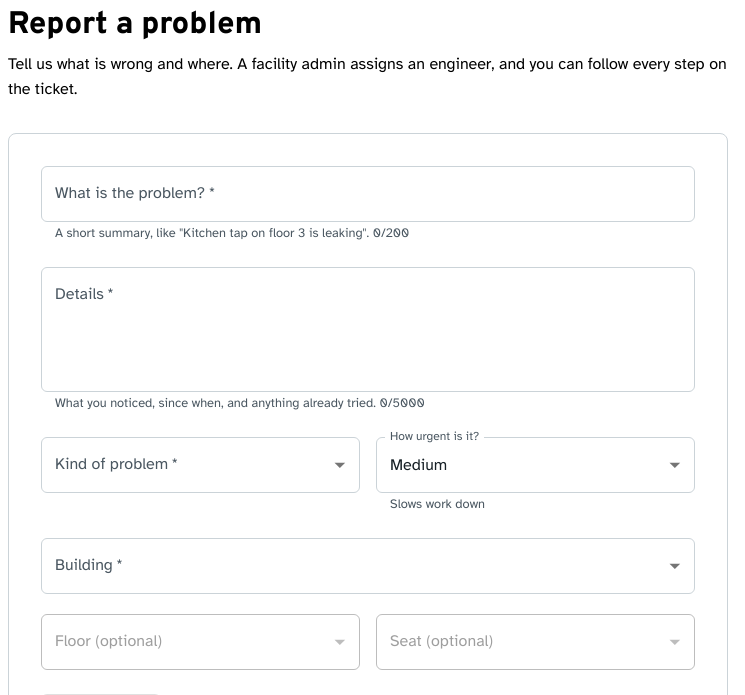
Test: ReportPage › shows an unexpected failure with its reference
Type "Tap leaking" into the field labelled "What is the problem? *" at (368, 194), box [41,166,695,222]
Type "Since Monday" into the text box labelled "Details *" at (368, 330), box [55,284,681,376]
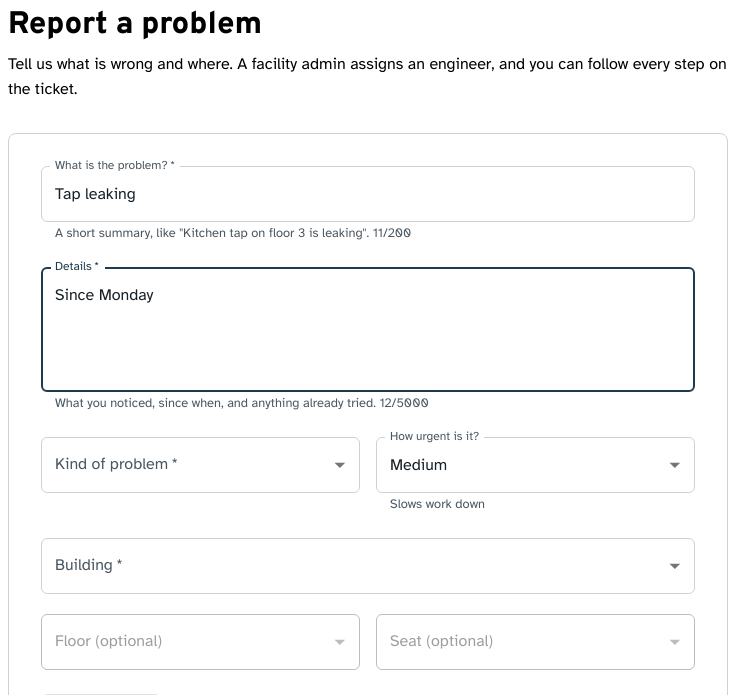
Click the dropdown named "Kind of problem" next to "Kind of problem" at (200, 465), box [41,437,360,493]
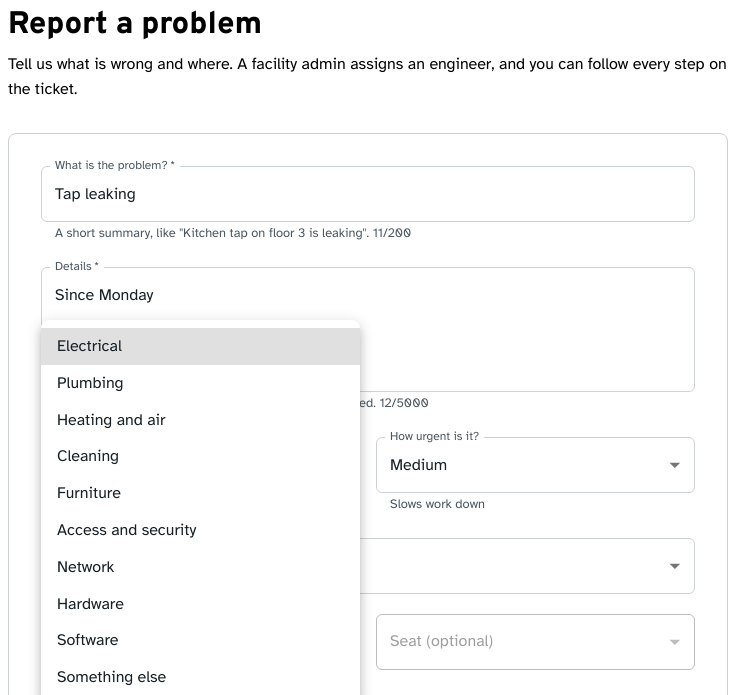
Click the option "Plumbing" at (90, 383), box [57,373,124,393]
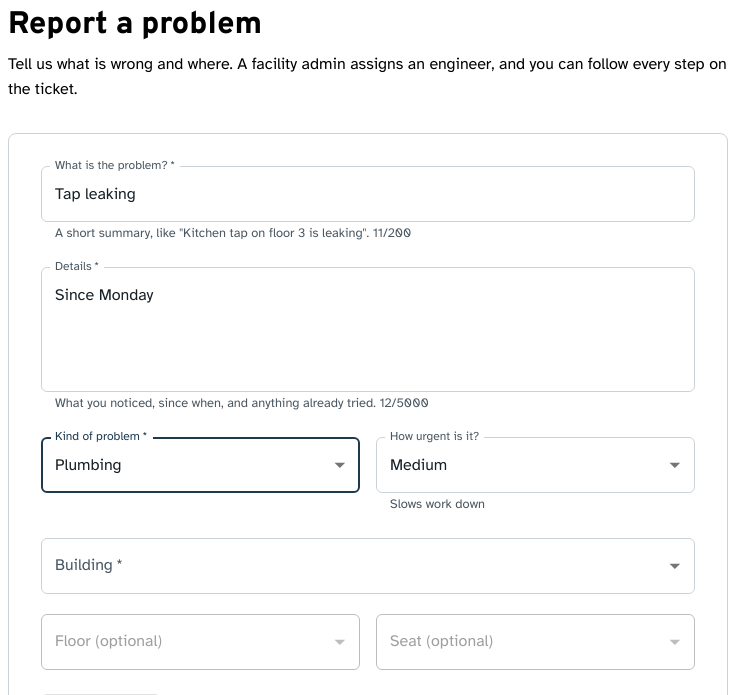
Click the dropdown named "Building" next to "Building" at (368, 566), box [41,538,695,594]
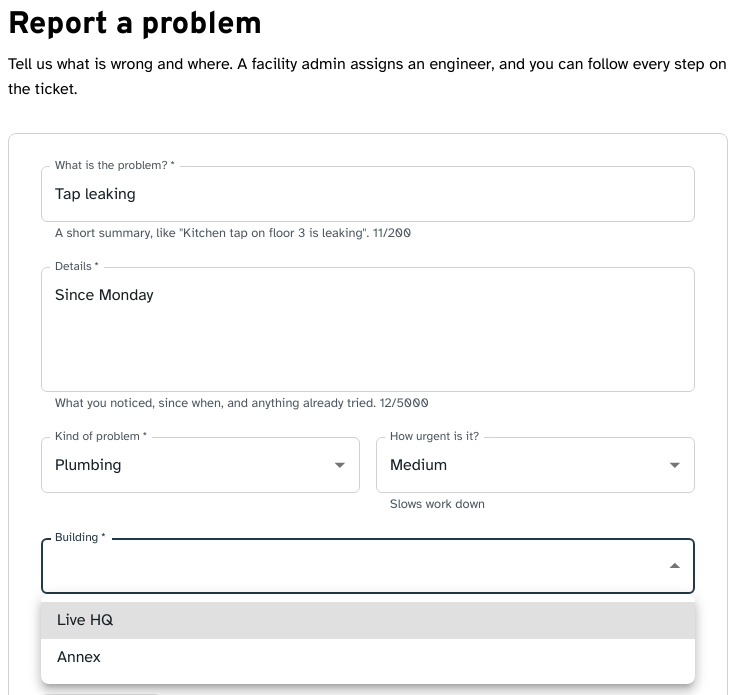
Click the option "Live HQ" at (85, 620), box [41,602,695,639]
(page scrolled)
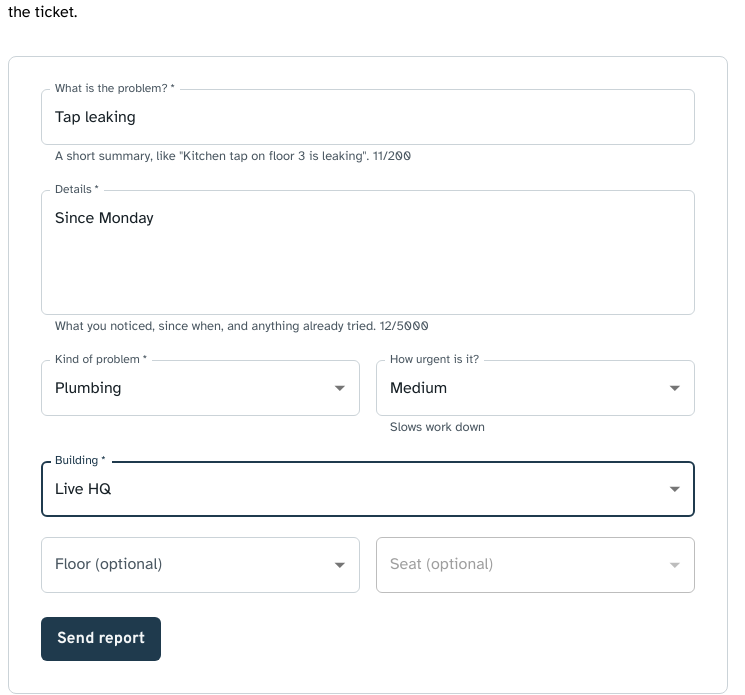
Click the button "Send report" at (101, 639), box [41,617,161,661]
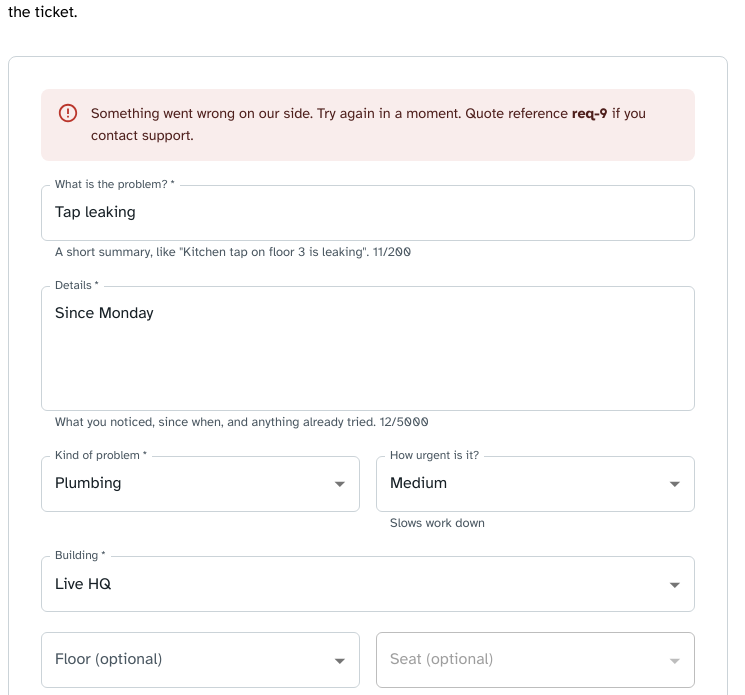
Expected: the text "req-9" is shown, [572,104,608,122]
